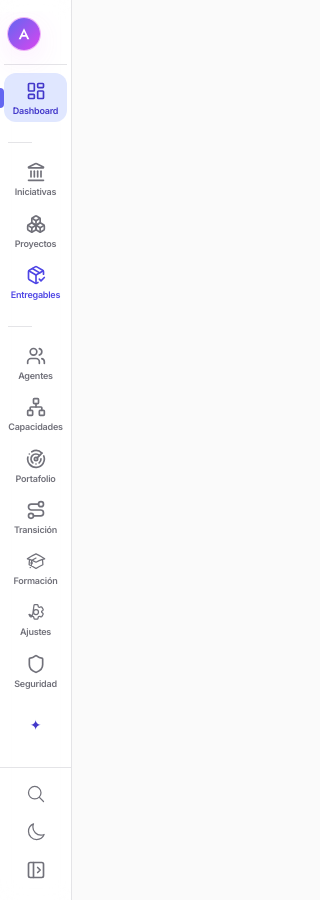
Scenario: AppRail · desplegado contextual › el foco de teclado lo despliega, no sólo el ratón
This screenshot has width=320, height=900.
Press Tab
Focus the button with aria-label "Iniciativas de Negocio" at (36, 179), box [4,154,67,204]
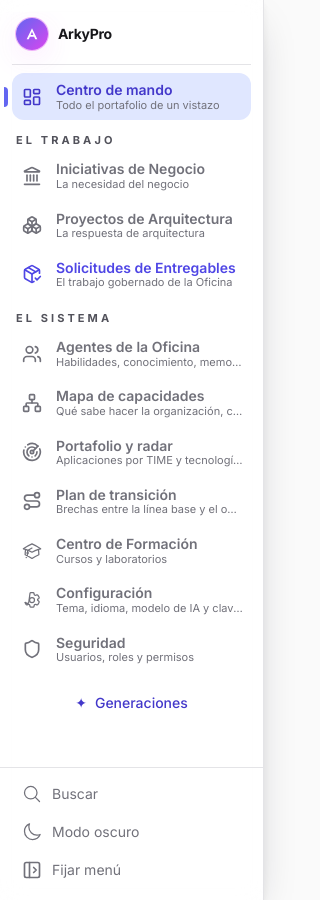
Now the button labelled "Solicitudes de Entregables" is shown, box [12,251,251,298]
Now the button labelled "Solicitudes de Entregables" shows "El trabajo gobernado de la Oficina", box [12,251,251,298]
